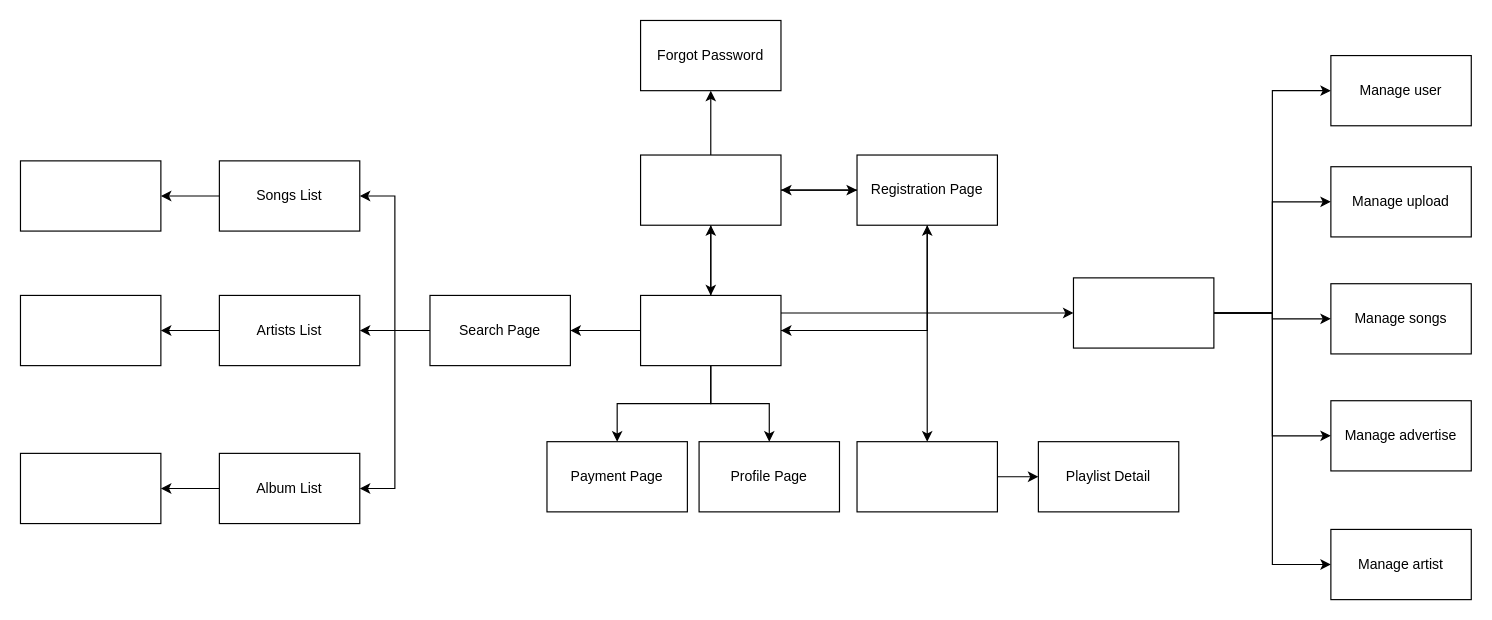
This 1492x620 diagram has some shape labels left out. The shapes that lost their labels are listed below. From the top down, each one's centre as x and y in pixels, then its label:
At (90,195): "Song Detail".
At (710,189): "Login Page".
At (90,330): "Artist Detail".
At (710,330): "Home Page".
At (1143,312): "Admin Dashboard".
At (90,488): "Album Detail".
At (926,476): "Playlist Page".
